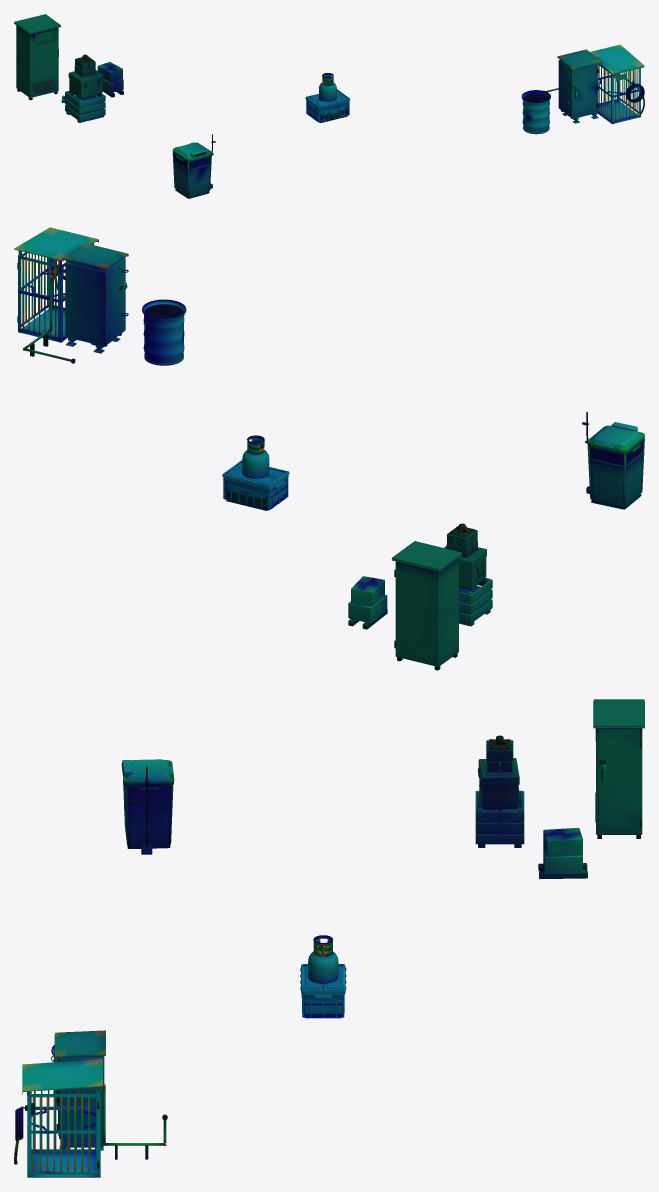
File: kiosk_exterior.glb
3 renders of one model, top to bottom at view 1: azimuth 30°, elevation 25°; view 2: azimuth 150°, elevation 25°; view 3: azimuth 270°, elevation 25°, orthographic. The views are drawn at different scales.
Visible parts, largest first — view 1: SM_Kiosk_Exterior, SM_XP_tote, SM_XP_crate_blue, SM_XP_lpg; view 2: SM_Kiosk_Exterior, SM_XP_tote, SM_XP_lpg, SM_XP_crate_blue; view 3: SM_Kiosk_Exterior, SM_XP_tote, SM_XP_lpg, SM_XP_crate_blue.
Part boxes in pixels (x1=…): SM_Kiosk_Exterior: x1=14, y1=14, x2=644, y2=198; SM_XP_tote: x1=305, y1=91, x2=350, y2=119; SM_XP_crate_blue: x1=305, y1=89, x2=349, y2=122; SM_XP_lpg: x1=319, y1=73, x2=336, y2=101; SM_Kiosk_Exterior: x1=14, y1=227, x2=644, y2=670; SM_XP_tote: x1=222, y1=462, x2=289, y2=505; SM_XP_lpg: x1=242, y1=435, x2=269, y2=478; SM_XP_crate_blue: x1=222, y1=460, x2=289, y2=510; SM_Kiosk_Exterior: x1=14, y1=699, x2=644, y2=1177; SM_XP_tote: x1=300, y1=965, x2=346, y2=1018; SM_XP_lpg: x1=308, y1=935, x2=338, y2=984; SM_XP_crate_blue: x1=301, y1=964, x2=344, y2=1018.
Size of the model in its own units: 7.08 by 1.17 by 5.18.
